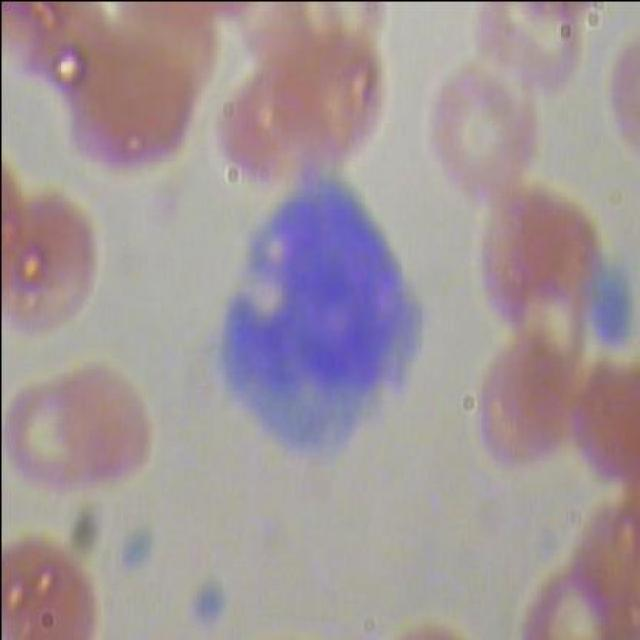Platelets: (591, 291, 638, 351), (180, 575, 229, 631), (114, 525, 163, 580)
RBC: (281, 15, 416, 182), (198, 27, 333, 193), (463, 188, 608, 341), (46, 345, 191, 497), (435, 338, 579, 491), (70, 30, 190, 196), (1, 186, 119, 352), (423, 46, 542, 202), (1, 372, 122, 510), (469, 2, 589, 123), (0, 523, 111, 639), (558, 346, 638, 496), (271, 2, 407, 80), (596, 23, 638, 182)
WBC: (197, 167, 431, 478)
